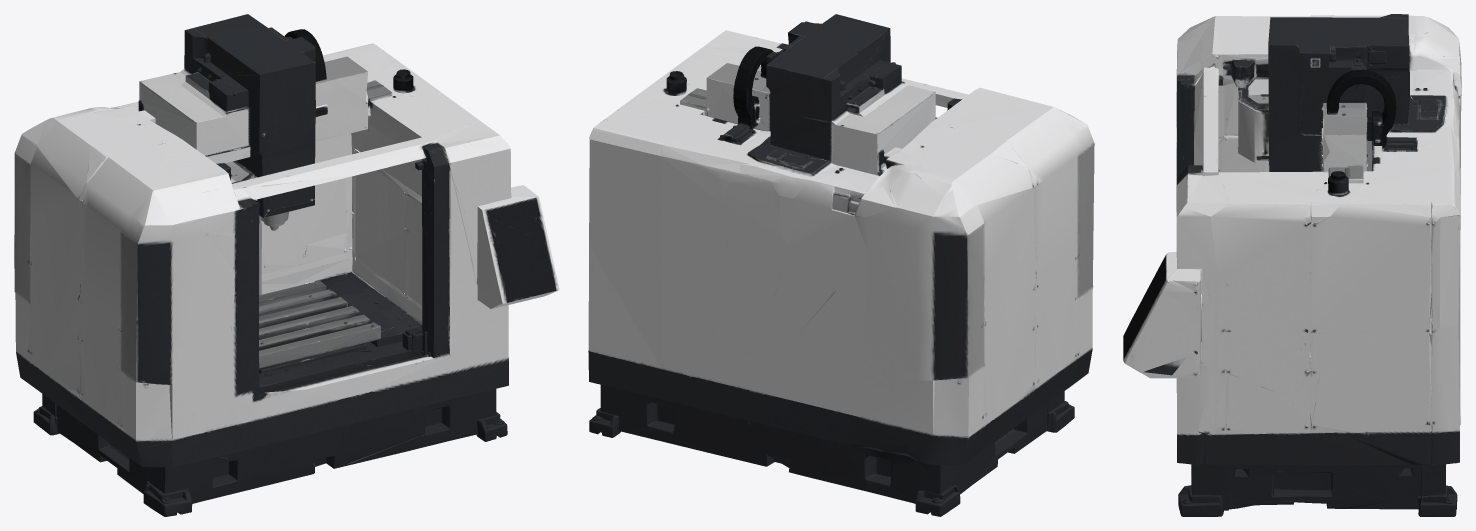
The model's file is CNC_Machining_Center_.glb.
3 views of the same model, side by side, from view 1: azimuth 30°, elevation 25°; view 2: azimuth 150°, elevation 25°; view 3: azimuth 270°, elevation 25° (orthographic). The views are drawn at different scales.
Visible parts, largest first — view 1: output_unwrapped; view 2: output_unwrapped; view 3: output_unwrapped.
Part boxes in pixels (x1,y1,x2,y2): output_unwrapped: (14,14,559,516); output_unwrapped: (588,14,1094,516); output_unwrapped: (1123,14,1461,516).
Bounding box in the file's own units: 2.38 × 2.2 × 1.71.
Materials: 1 (1 with a texture image).
